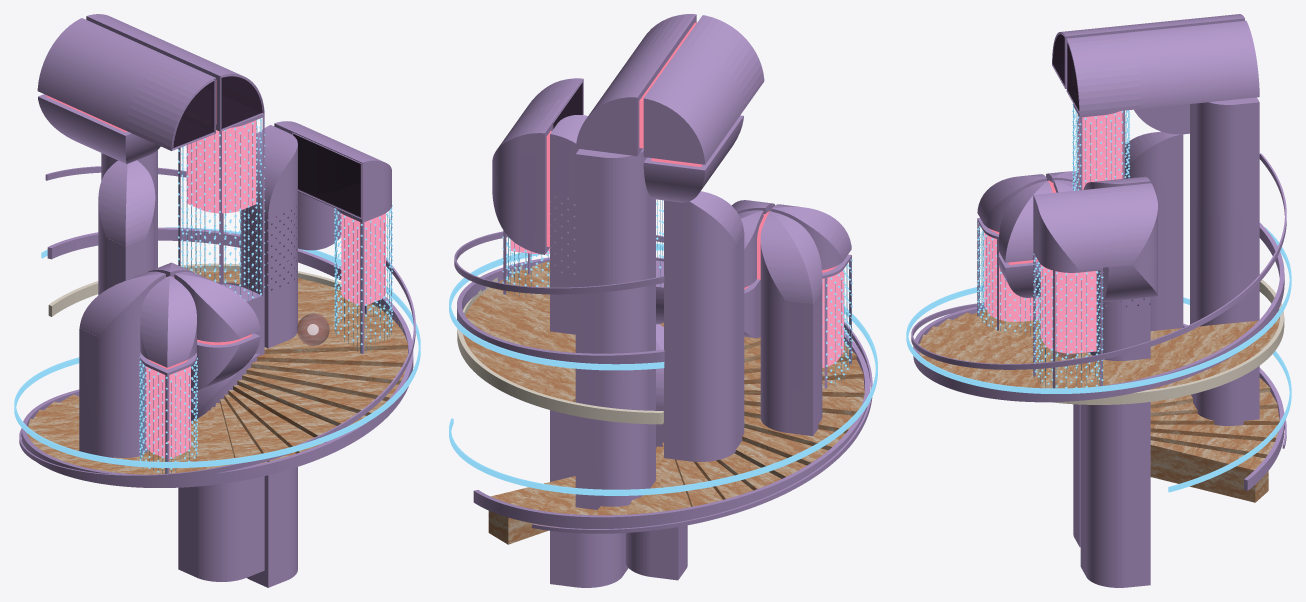
The model's file is firetails.glb.
3 renders of one model, left to right at view 1: azimuth 30°, elevation 25°; view 2: azimuth 150°, elevation 25°; view 3: azimuth 270°, elevation 25°, orthographic. The views are drawn at different scales.
Visible parts, largest first — view 1: WE, Shape013, Cylinder013, SpiralStair005, SpiralStair009, SpiralStair008, SpiralStair007, Sphere001; view 2: WE, Cylinder013, Shape013, SpiralStair005, SpiralStair009, SpiralStair008, SpiralStair007; view 3: WE, Cylinder013, Shape013, SpiralStair005, SpiralStair009, SpiralStair008, SpiralStair007.
Part boxes in pixels (x1,y1,x2,y2): WE: (79, 76, 392, 587); Shape013: (27, 270, 407, 474); Cylinder013: (37, 14, 391, 250); SpiralStair005: (21, 227, 413, 487); SpiralStair009: (14, 227, 420, 467); SpiralStair008: (19, 166, 415, 480); SpiralStair007: (48, 263, 402, 330); Sphere001: (297, 313, 329, 345); WE: (502, 83, 852, 587); Cylinder013: (492, 14, 764, 254); Shape013: (463, 261, 864, 544); SpiralStair005: (457, 257, 869, 528); SpiralStair009: (449, 243, 877, 495); SpiralStair008: (454, 231, 872, 533); SpiralStair007: (457, 265, 663, 424); WE: (977, 34, 1259, 587); Cylinder013: (1033, 14, 1259, 301); Shape013: (918, 304, 1279, 502); SpiralStair005: (913, 223, 1284, 490); SpiralStair009: (906, 227, 1291, 492); SpiralStair008: (911, 153, 1286, 448); SpiralStair007: (1053, 279, 1284, 404).
Size of the model in its own units: 12.82 by 18.46 by 12.82.
10 materials, 1 textured.
